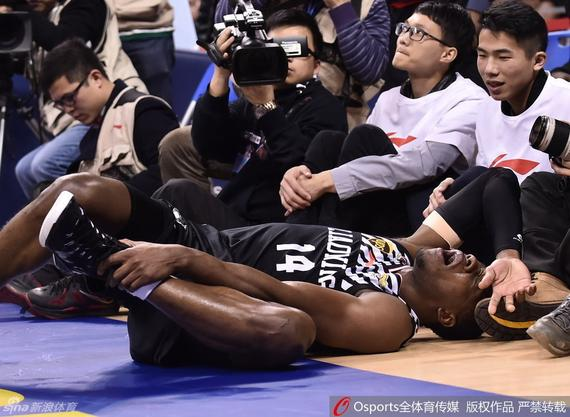10+: (1, 2, 566, 370)
down: (1, 158, 552, 368)
